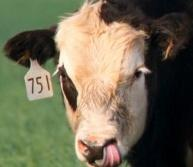muzzles: (71, 130, 127, 166)
